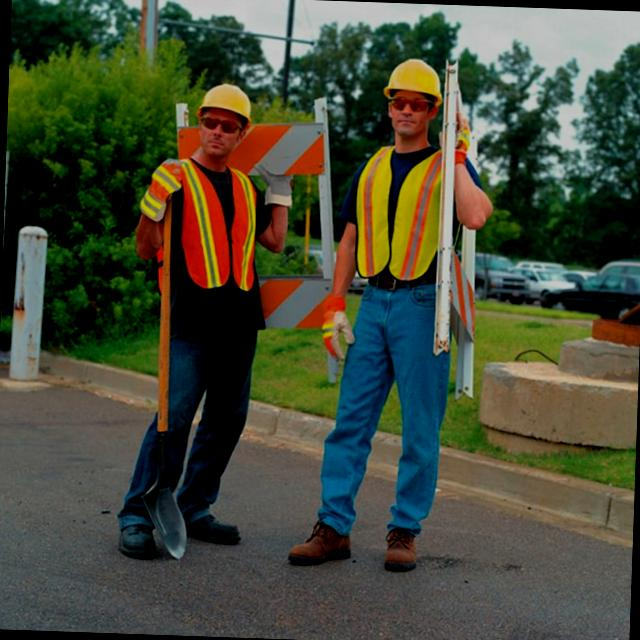goggles: (194, 114, 251, 138), (382, 95, 432, 118)
helmet: (378, 41, 459, 102), (188, 74, 276, 122)
vest: (124, 152, 269, 326), (332, 138, 464, 290)
